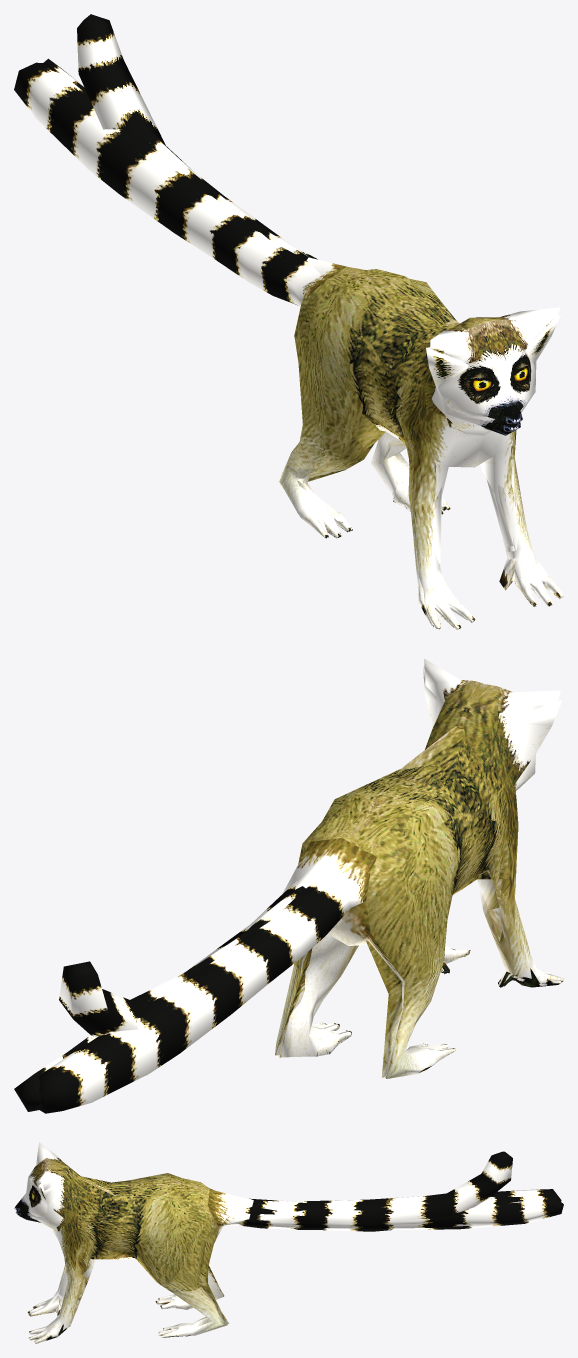
File: special_lemur.glb
3 views of the same model, one above another, from view 1: azimuth 30°, elevation 25°; view 2: azimuth 150°, elevation 25°; view 3: azimuth 270°, elevation 25° (orthographic). The views are drawn at different scales.
Parts seen in each view (by area): view 1: special_lemur; view 2: special_lemur; view 3: special_lemur.
Part boxes in pixels (left/top/right/bottom): special_lemur: left=14, top=14, right=563, bottom=629; special_lemur: left=14, top=658, right=563, bottom=1113; special_lemur: left=14, top=1142, right=563, bottom=1343.
Size of the model in its own units: 0.3966 by 0.85 by 2.42.
Materials: 1 (1 with a texture image).
